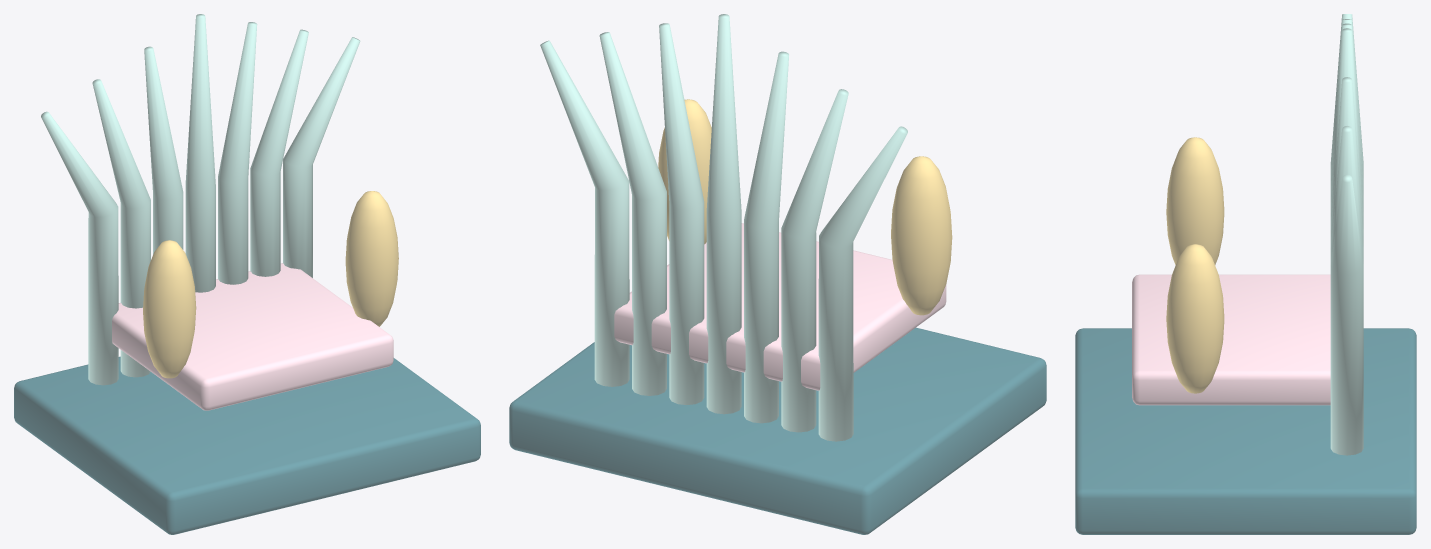
File: atlantis_detail_tidal_throne.glb
3 renders of one model, left to right at view 1: azimuth 30°, elevation 25°; view 2: azimuth 150°, elevation 25°; view 3: azimuth 270°, elevation 25°, orthographic. The views are drawn at different scales.
Visible parts, largest first — view 1: atlantis_detail_tidal_throne_surface; view 2: atlantis_detail_tidal_throne_surface; view 3: atlantis_detail_tidal_throne_surface.
Boxes of the visible parts, bbox=[...] form: atlantis_detail_tidal_throne_surface: bbox=[14, 14, 480, 534]; atlantis_detail_tidal_throne_surface: bbox=[509, 14, 1046, 534]; atlantis_detail_tidal_throne_surface: bbox=[1075, 14, 1416, 534].
Size of the model in its own units: 3.14 by 3.7 by 2.7.
